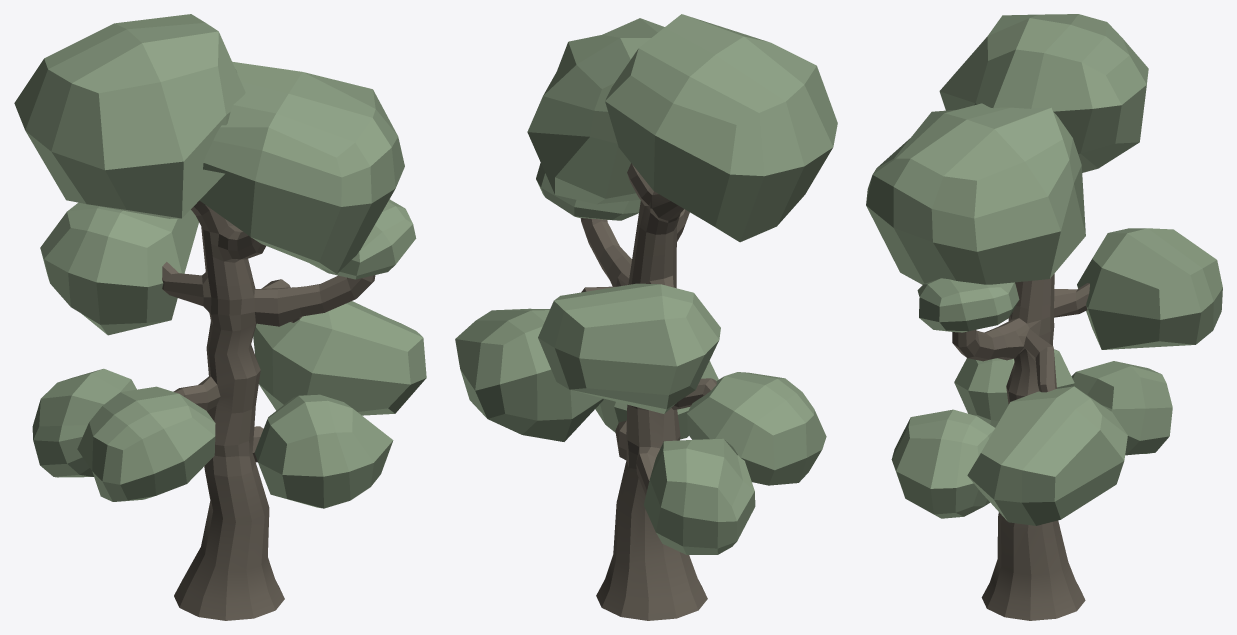
Rendered from Tree_1.fbx.
3 views of the same model, side by side, from view 1: azimuth 30°, elevation 25°; view 2: azimuth 150°, elevation 25°; view 3: azimuth 270°, elevation 25° (orthographic). The views are drawn at different scales.
Parts seen in each view (by area): view 1: pCube84, pCube83, Tree1, pCube82, pCube89, pCube87, pCube86, pCube88, pCube70; view 2: pCube84, Tree1, pCube82, pCube83, pCube89, pCube87, pCube88, pCube70, pCube86; view 3: pCube83, pCube84, pCube89, Tree1, pCube82, pCube86, pCube88, pCube70, pCube87.
Part boxes in pixels (left/top/right/bottom): pCube84: left=14, top=14, right=245, bottom=218; pCube83: left=199, top=61, right=404, bottom=273; Tree1: left=162, top=200, right=375, bottom=620; pCube82: left=40, top=202, right=198, bottom=335; pCube89: left=253, top=301, right=426, bottom=415; pCube87: left=77, top=386, right=215, bottom=501; pCube86: left=254, top=394, right=393, bottom=508; pCube88: left=32, top=368, right=136, bottom=477; pCube70: left=310, top=199, right=416, bottom=279; pCube84: left=605, top=14, right=837, bottom=242; Tree1: left=580, top=163, right=716, bottom=620; pCube82: left=538, top=283, right=720, bottom=413; pCube83: left=527, top=18, right=664, bottom=204; pCube89: left=455, top=308, right=603, bottom=441; pCube87: left=687, top=372, right=826, bottom=485; pCube88: left=643, top=438, right=755, bottom=554; pCube70: left=536, top=163, right=640, bottom=220; pCube86: left=595, top=361, right=718, bottom=439; pCube83: left=866, top=103, right=1085, bottom=284; pCube84: left=939, top=14, right=1148, bottom=172; pCube89: left=967, top=386, right=1127, bottom=525; Tree1: left=952, top=273, right=1089, bottom=620; pCube82: left=1077, top=228, right=1222, bottom=349; pCube86: left=891, top=409, right=994, bottom=518; pCube88: left=1071, top=361, right=1172, bottom=455; pCube70: left=917, top=278, right=1019, bottom=332; pCube87: left=954, top=349, right=1074, bottom=427.
Bounding box in the file's own units: 6.32 × 9.61 × 5.75.
